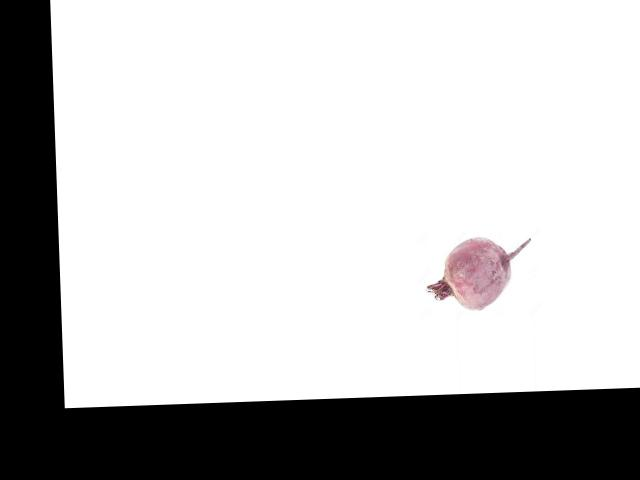beet: (424, 235, 532, 310)
